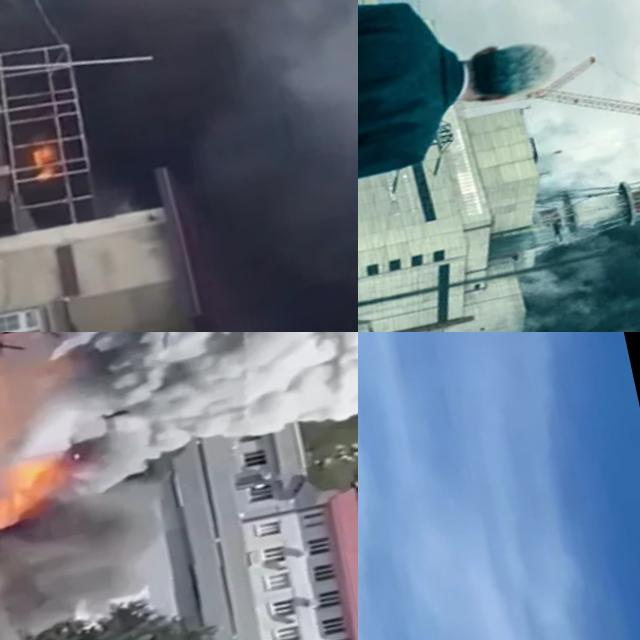smoke: (0, 0, 358, 332), (0, 332, 358, 539), (503, 188, 640, 332)
